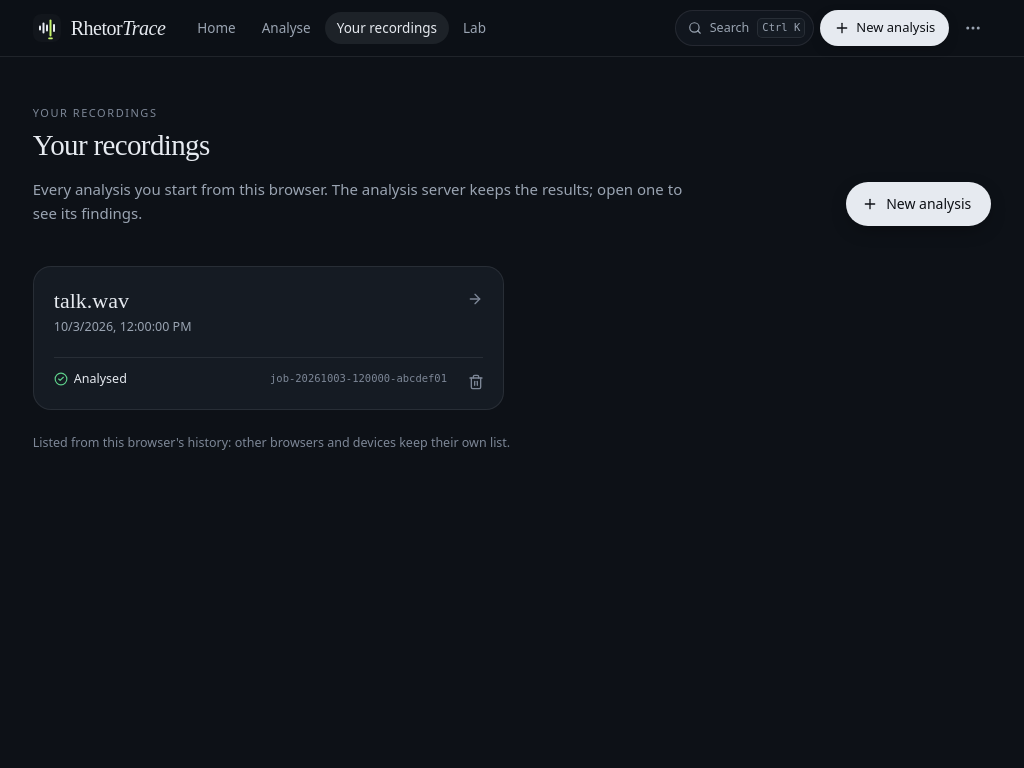
Test case: information architecture › an analysis can be deleted from Your recordings, after confirming, and the deletion undone
Step 1. Click the button named "Delete talk.wav" → (476, 382), box [460,366,492,398]
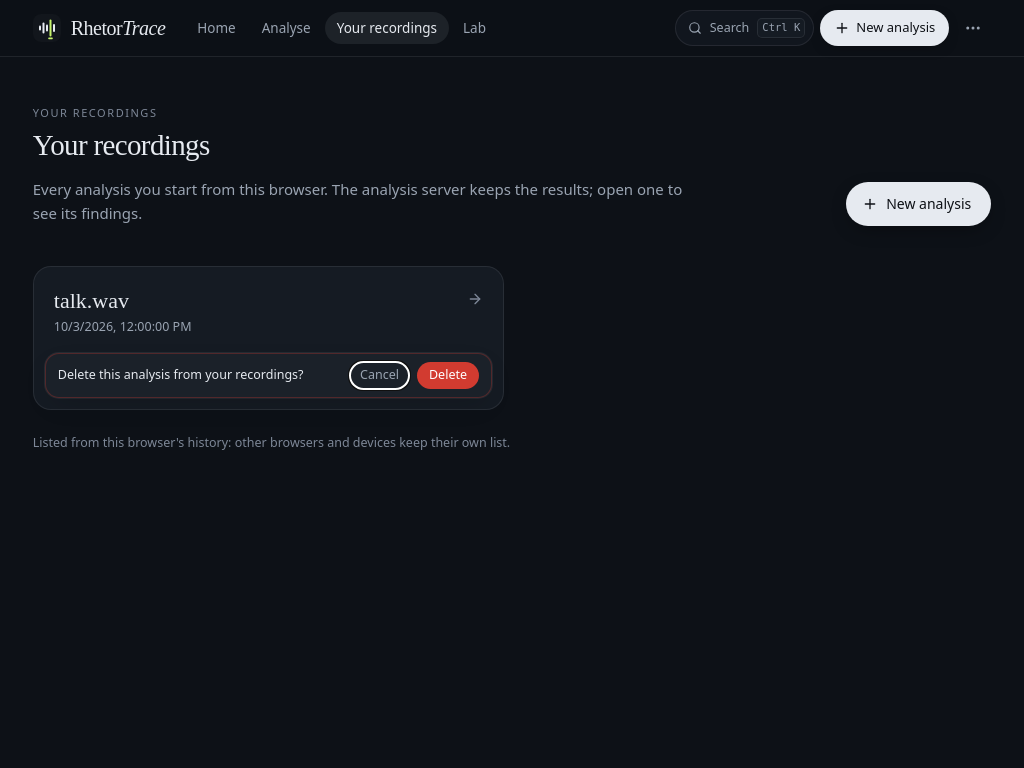
Expected: the link "talk.wav" is shown, [33,266,504,410]
Step 2. Click the button "Delete" → (448, 375), box [417,362,479,389]
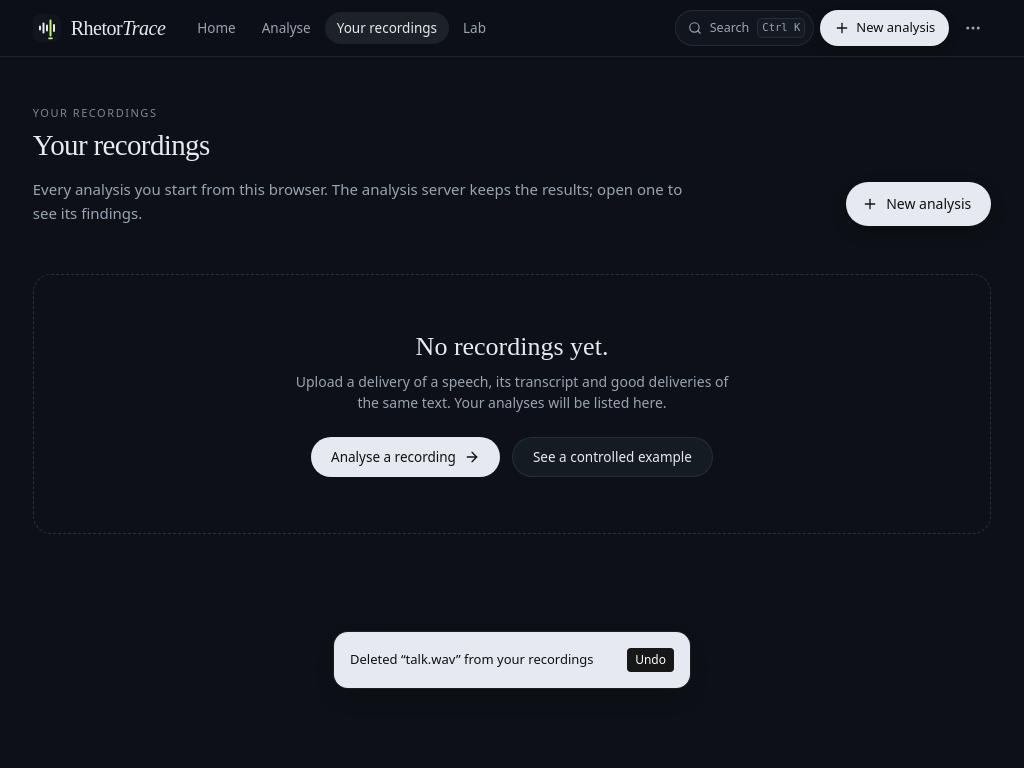
Now the text "No recordings yet." is shown, box [416,332,608,361]
Step 3. Click the button "Undo" → (651, 660), box [627,648,674,672]
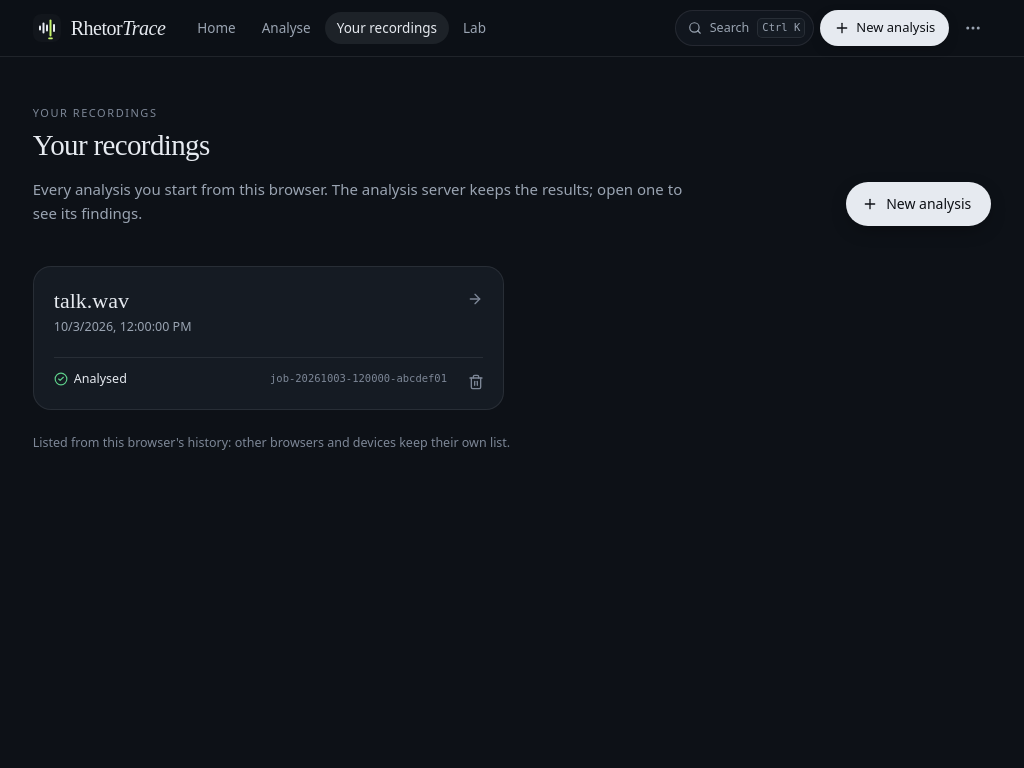
Now the link "talk.wav" is shown, box [33,266,504,410]
